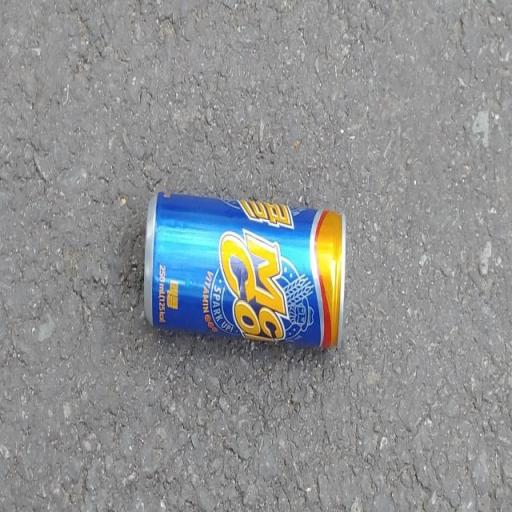metal: (122, 158, 366, 380)
